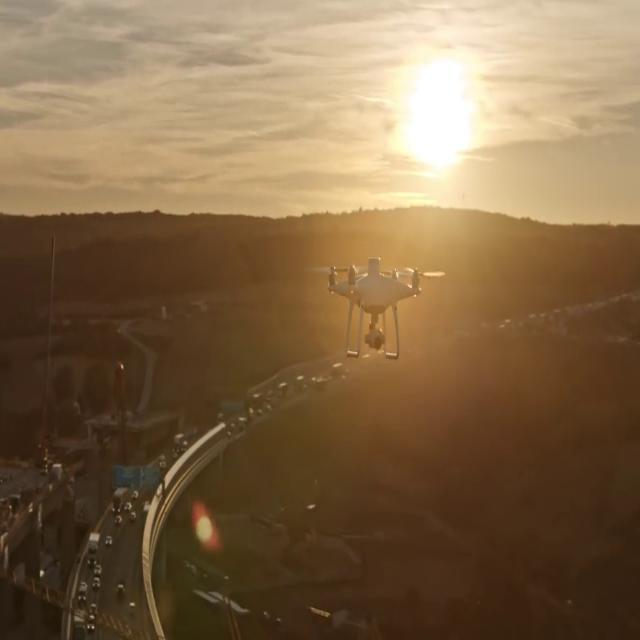drone: (308, 250, 447, 362)
